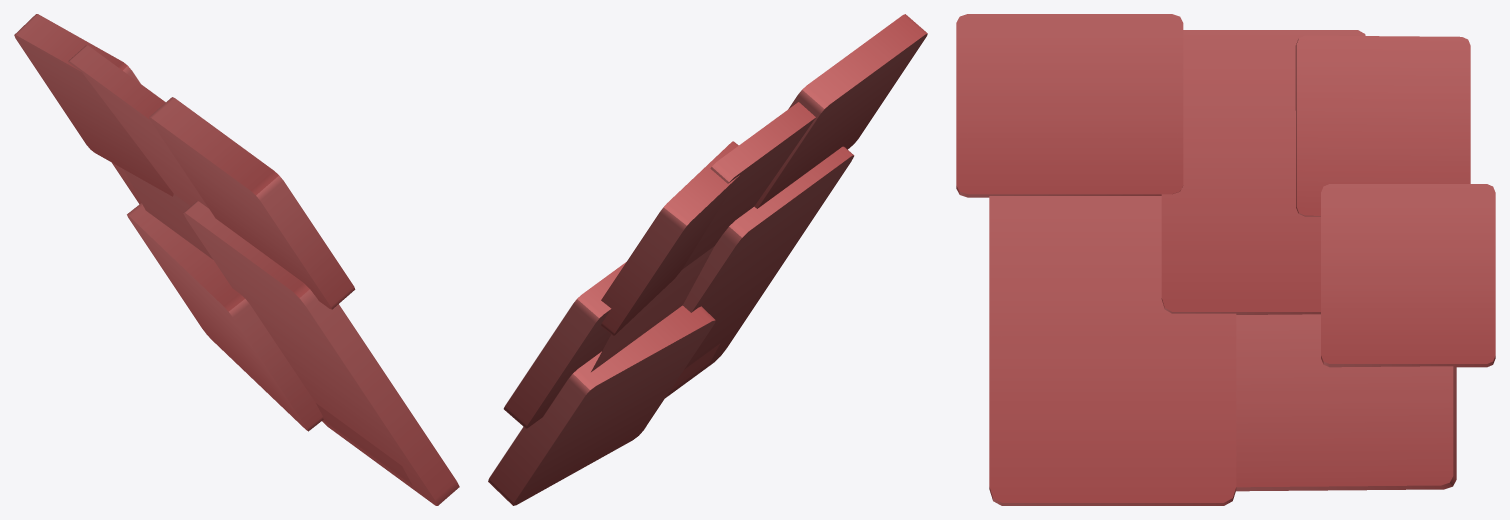
The model's file is RoofTile_Top_1.fbx.
3 views of the same model, side by side, from view 1: azimuth 30°, elevation 25°; view 2: azimuth 150°, elevation 25°; view 3: azimuth 270°, elevation 25° (orthographic). The views are drawn at different scales.
Visible parts, largest first — view 1: rooftile_top1_LOD0; view 2: rooftile_top1_LOD0; view 3: rooftile_top1_LOD0.
Part boxes in pixels (x1,y1,x2,y2): rooftile_top1_LOD0: (14,14,459,505); rooftile_top1_LOD0: (488,14,927,505); rooftile_top1_LOD0: (956,14,1495,505).
Size of the model in its own units: 0.6593 by 1.1 by 1.34.
